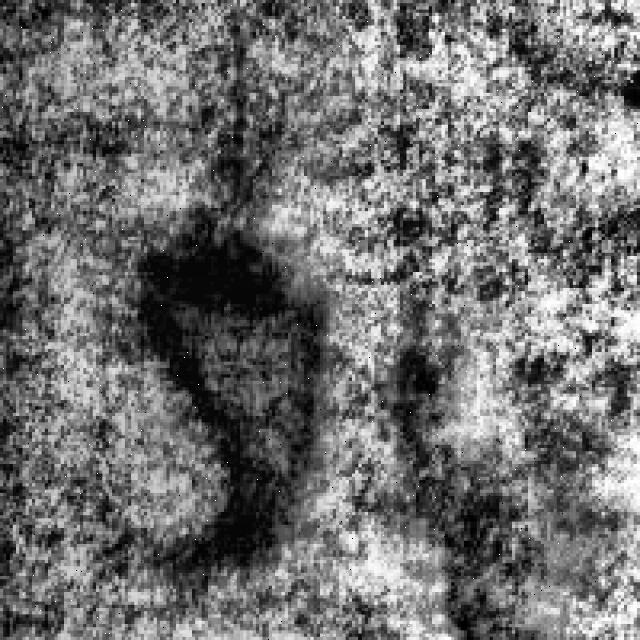Scratches: (106, 163, 330, 589), (378, 323, 556, 634)
